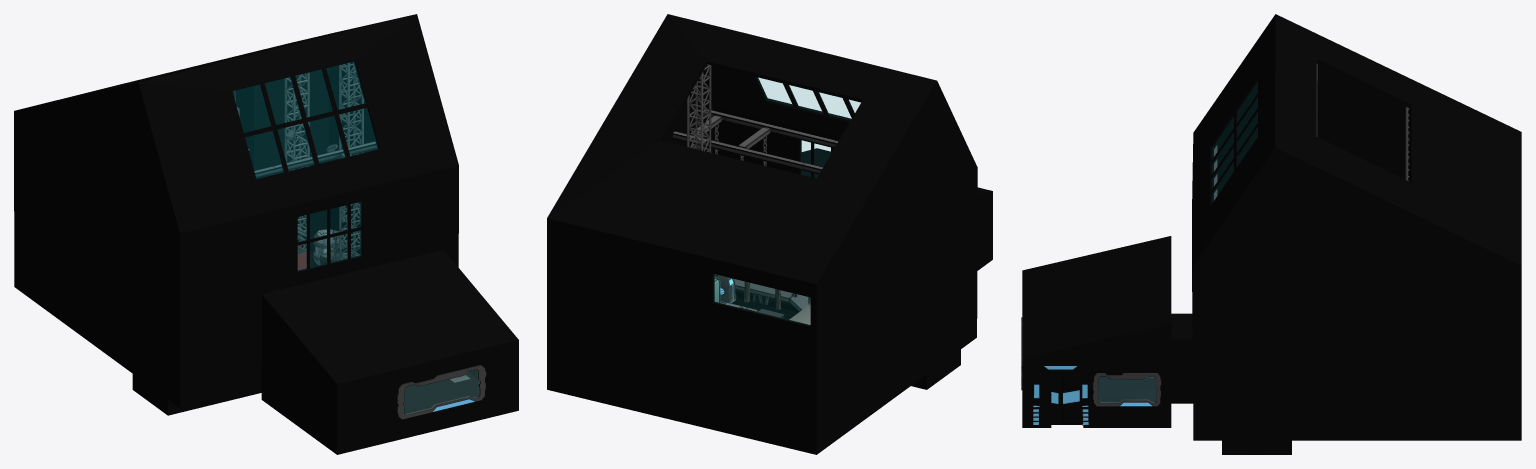
File: sci-fi-garage.glb
3 renders of one model, left to right at view 1: azimuth 30°, elevation 25°; view 2: azimuth 150°, elevation 25°; view 3: azimuth 270°, elevation 25°, orthographic. The views are drawn at different scales.
Parts seen in each view (by area): view 1: M_Building001_Building_0, Object338_Glass_0, M_Scaffolding_016_Metal Work_0, Object339_Glass_0, Box575_Window Frames_0, Box572_Metal Work_0; view 2: M_Building001_Building_0, Box572_Metal Work_0, Object340_Glass_0, M_Scaffolding_016_Metal Work_0, Object338_Glass_0, Object336_Car Lift_0, Object339_Glass_0; view 3: M_Building001_Building_0, Object338_Glass_0, Object365_Door_0, Object363_Door_0, Box576_Window Frames_0, M_Sofa001_Sofa and Hologram_0, Object364_Door_0.
Part boxes in pixels (x1=…): M_Building001_Building_0: x1=14, y1=14, x2=518, y2=454; Object338_Glass_0: x1=233, y1=62, x2=377, y2=178; M_Scaffolding_016_Metal Work_0: x1=284, y1=62, x2=363, y2=260; Object339_Glass_0: x1=298, y1=202, x2=360, y2=270; Box575_Window Frames_0: x1=397, y1=365, x2=486, y2=419; Box572_Metal Work_0: x1=254, y1=141, x2=377, y2=222; M_Building001_Building_0: x1=547, y1=14, x2=992, y2=454; Box572_Metal Work_0: x1=672, y1=109, x2=838, y2=174; Object340_Glass_0: x1=714, y1=274, x2=809, y2=324; M_Scaffolding_016_Metal Work_0: x1=687, y1=64, x2=711, y2=152; Object338_Glass_0: x1=757, y1=78, x2=859, y2=119; Object336_Car Lift_0: x1=714, y1=274, x2=808, y2=311; Object339_Glass_0: x1=801, y1=141, x2=830, y2=177; M_Building001_Building_0: x1=1022, y1=14, x2=1521, y2=454; Object338_Glass_0: x1=1213, y1=83, x2=1257, y2=200; Object365_Door_0: x1=1060, y1=370, x2=1081, y2=424; Object363_Door_0: x1=1033, y1=364, x2=1088, y2=425; Box576_Window Frames_0: x1=1093, y1=373, x2=1161, y2=406; M_Sofa001_Sofa and Hologram_0: x1=1102, y1=388, x2=1156, y2=401; Object364_Door_0: x1=1051, y1=370, x2=1060, y2=424.
Size of the model in its own units: 11.23 by 12.12 by 17.65.
19 materials, 18 textured.
